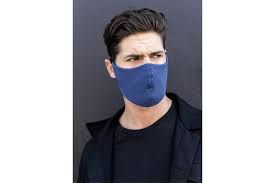with-mask: (100, 5, 176, 114)
